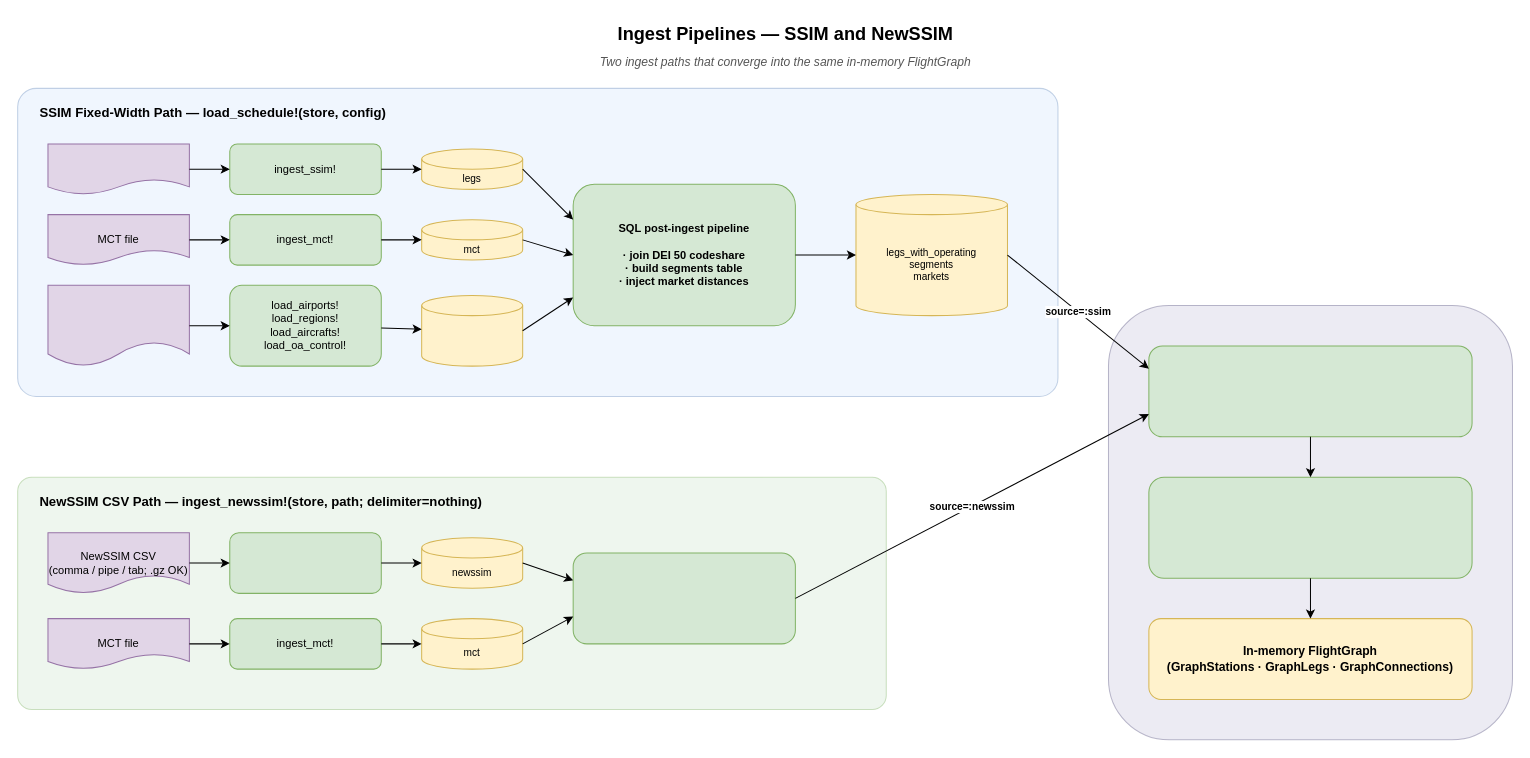
This 1530x758 diagram has some shape labels left out. The centre of each missing label's shape, as x and y in pixels:
airports · regions aircrafts · oa_control: point 472,330
build_connections! Apply connection rule chain (MCT lookup + all cnx rules): point 1310,527
build_graph! (store, config, date; source=:ssim | :newssim): point 1310,391
ingest_newssim! (detect_delimiter): point 305,562
newssim_materialize Build leg records from denormalized rows: point 683,598
Reference files airports · regions aircraft · oa_control: point 118,325
SSIM file (fixed-width): point 118,168
